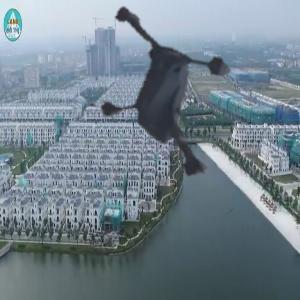drone: (83, 11, 285, 213)
